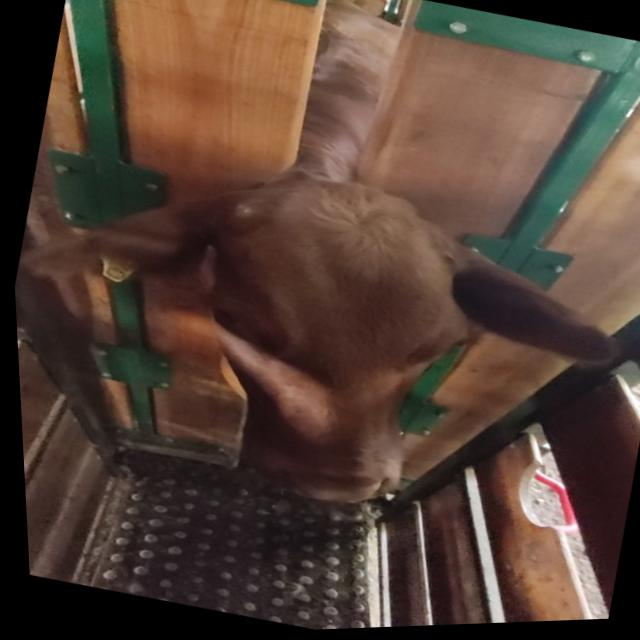cowFace: (158, 156, 506, 532)
